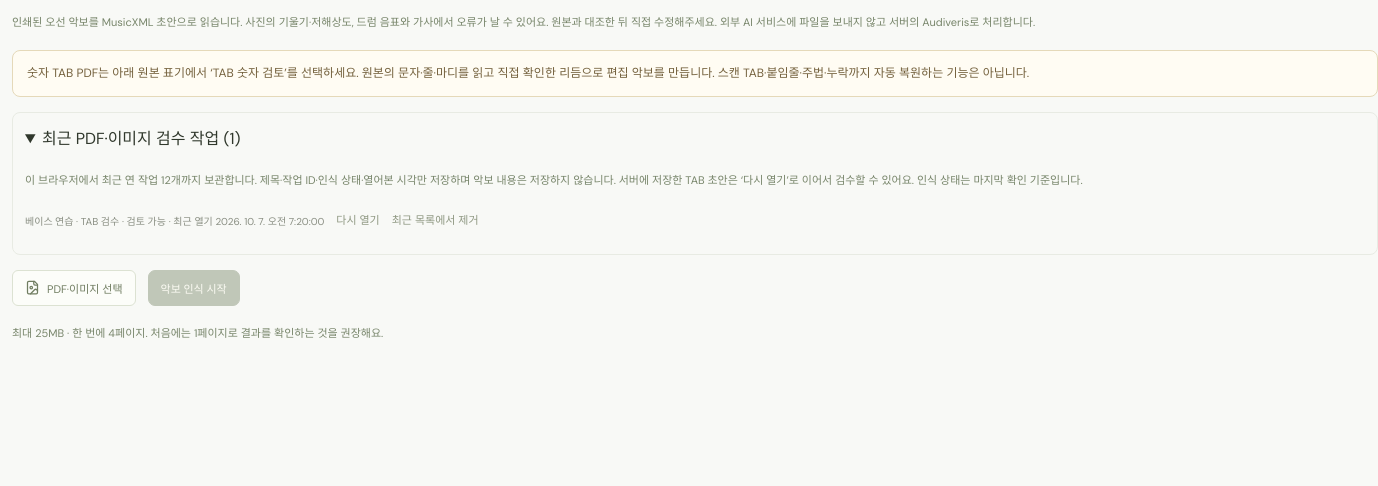
Test: preserves missing records until explicit local-only removal and never sends server deletion
What coordinates should you click on to do the following:
click the button "다시 열기"
I would click on:
 (358, 219)
Its box is [336,208,380,230].
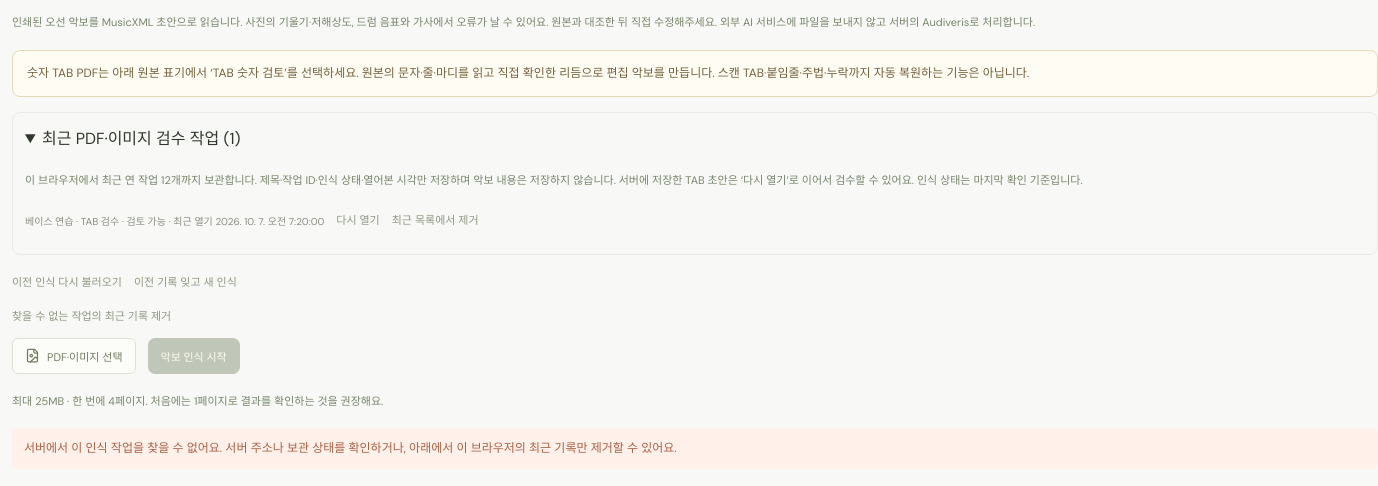
Expected: the text "서버에서 이 인식 작업을 찾을 수 없어요" is shown, [24,440,677,456]
What coordinates should you click on to do the following:
click the button "찾을 수 없는 작업의 최근 기록 제거"
I would click on:
 (92, 315)
Its box is [12,304,171,326].
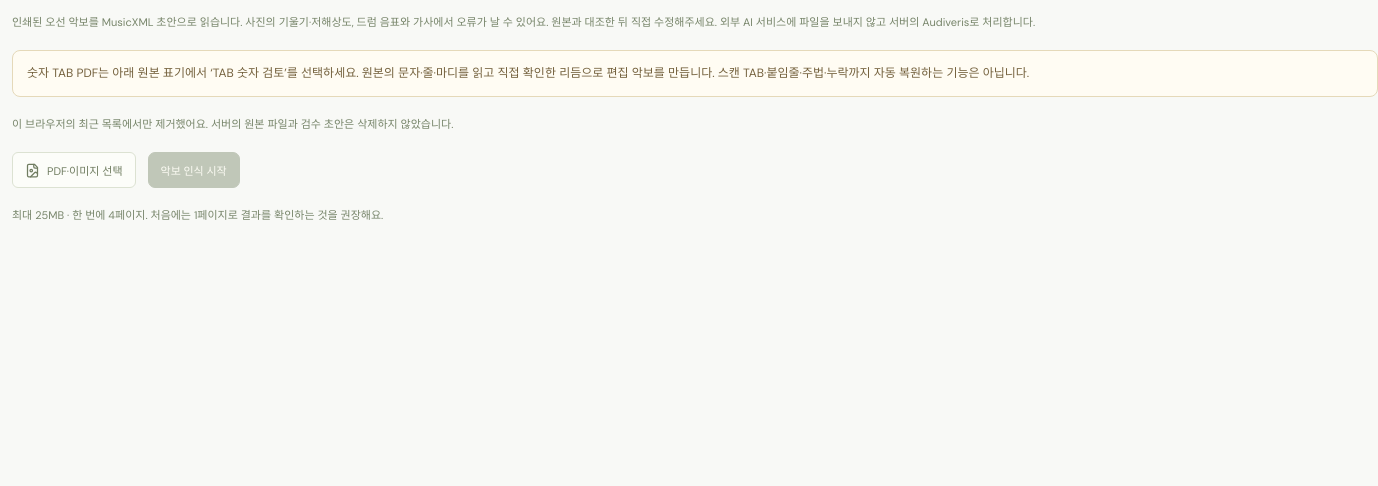
Expected: the text "서버의 원본 파일과 검수 초안은 삭제하지 않았습니다" is shown, [12,118,453,132]
